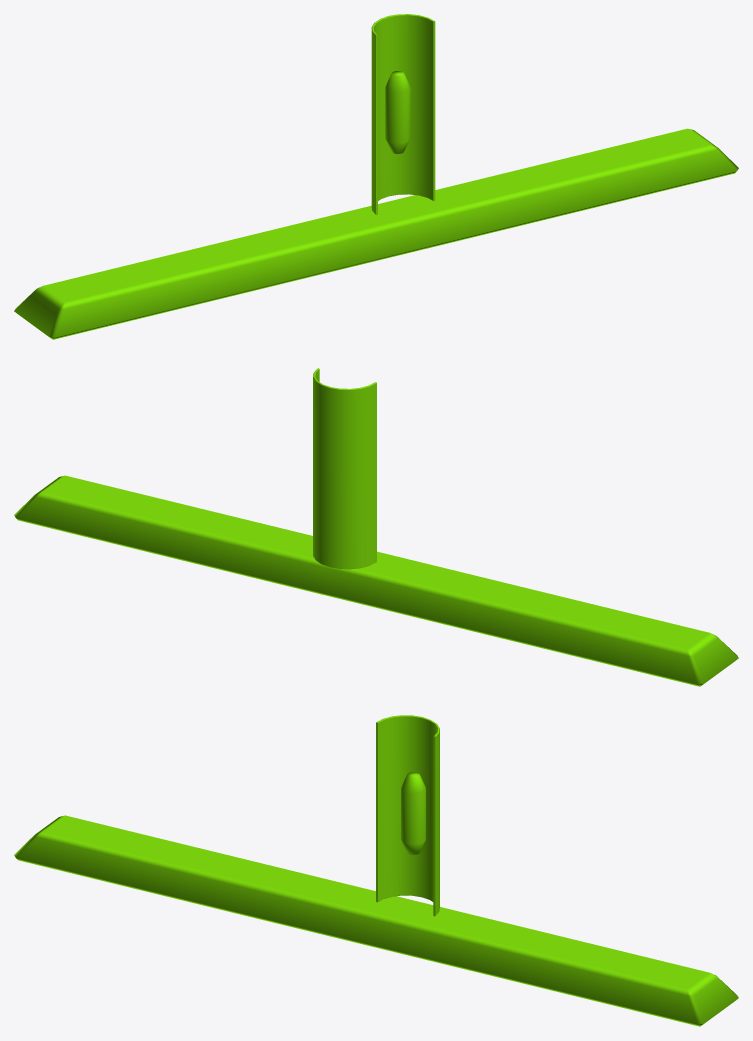
Rendered from ceiling_wall_lamps.fbx.
3 renders of one model, top to bottom at view 1: azimuth 30°, elevation 25°; view 2: azimuth 150°, elevation 25°; view 3: azimuth 330°, elevation 25°, orthographic.
Visible parts, largest first — view 1: ceiling_lamp_small_1, wall_lamp_1; view 2: ceiling_lamp_small_1, wall_lamp_1; view 3: ceiling_lamp_small_1, wall_lamp_1.
Boxes of the visible parts, box(x1,y1,x2,y2) form: ceiling_lamp_small_1: box(14, 128, 738, 339); wall_lamp_1: box(371, 14, 435, 215); ceiling_lamp_small_1: box(14, 475, 738, 686); wall_lamp_1: box(313, 368, 376, 569); ceiling_lamp_small_1: box(14, 815, 738, 1026); wall_lamp_1: box(376, 715, 439, 916).
Size of the model in its own units: 126 by 36.31 by 12.46.
